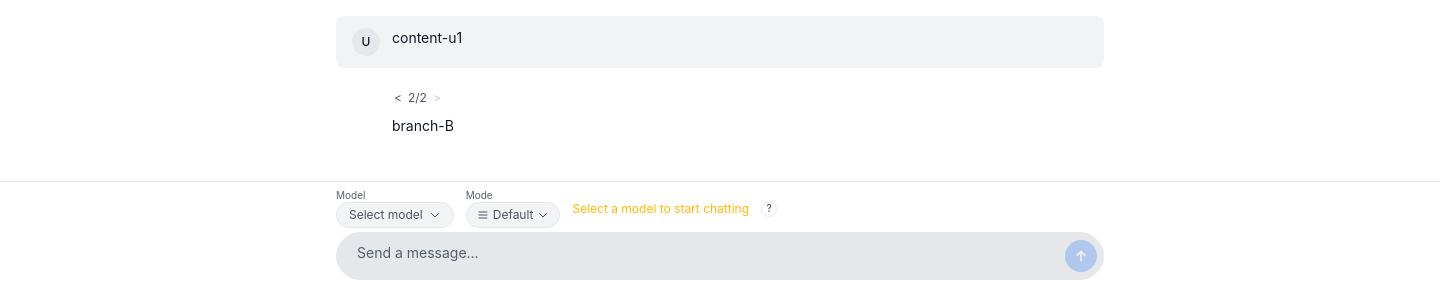
Scenario: ChatThread branch navigation render › ‹ previous-branch nav switches the rendered branch
expect the text "branch-B" is shown: met, box [392,117,454,134]
Note: BranchNavigator exposes the sibling nav as "Previous branch".
Click the button named "Previous branch". click: (398, 98)
box: [392,90,404,106]
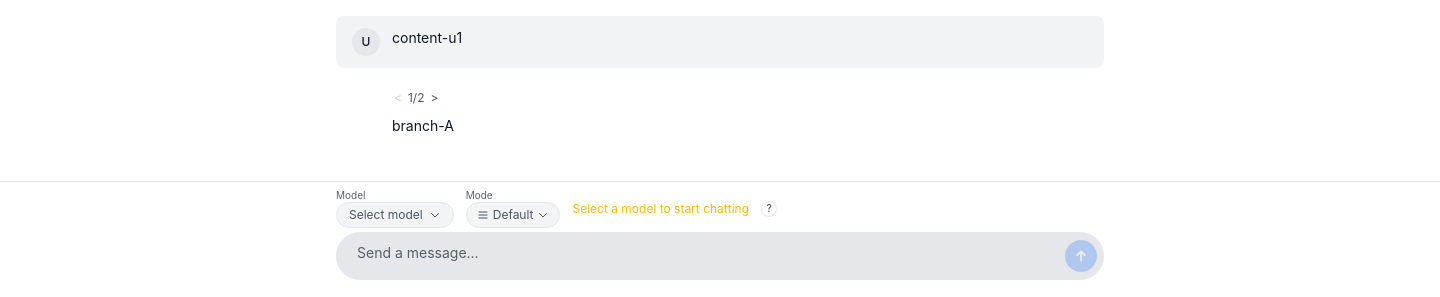
expect the text "branch-A" is shown: met, box [392,117,454,134]
expect the text "branch-B" is gone: met
